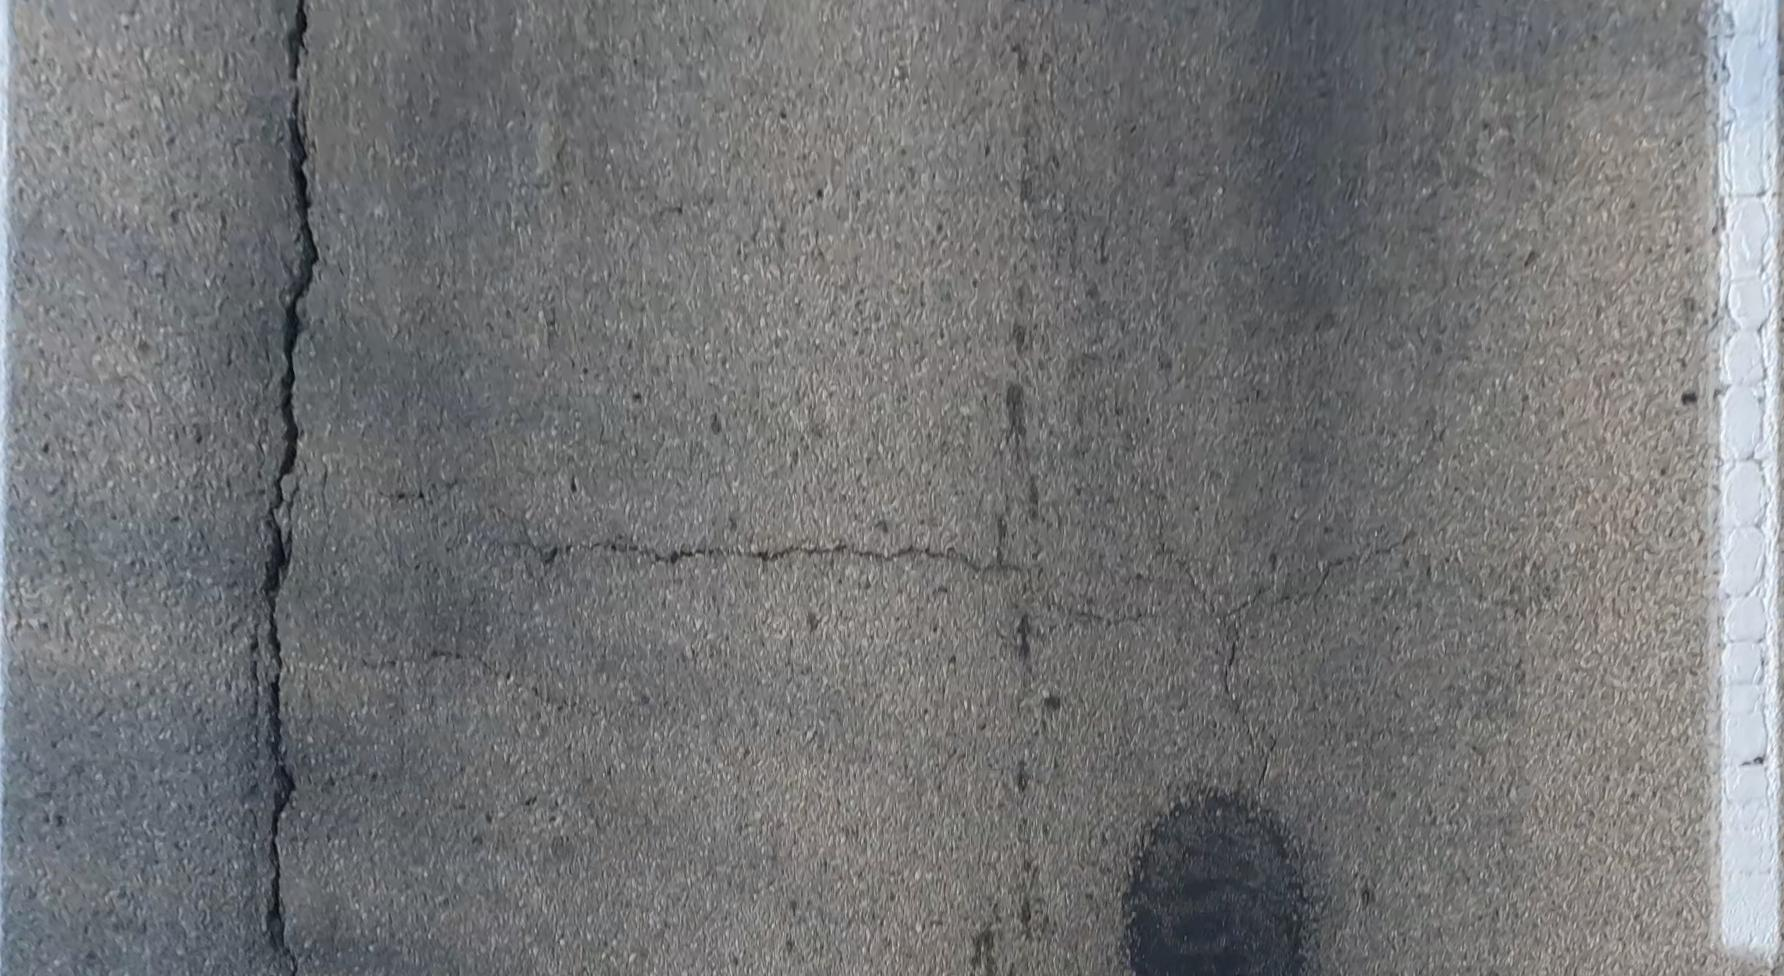pothole_patch_good: (1127, 796, 1303, 976)
